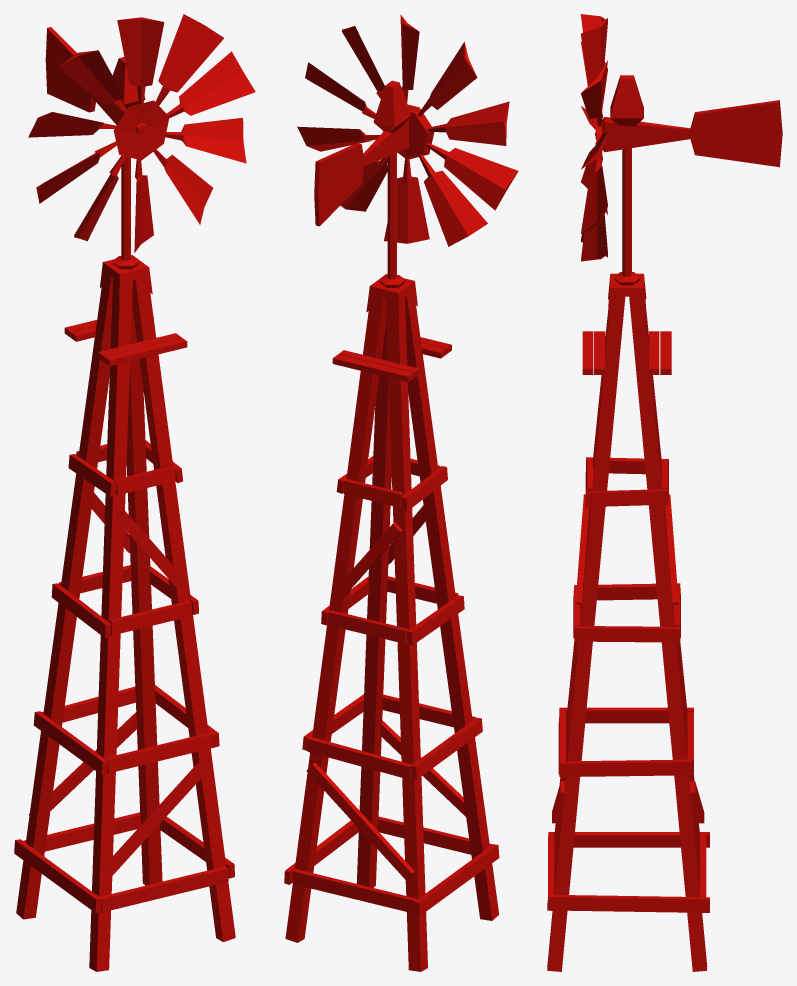
Rendered from windmill-western.fbx.
3 renders of one model, left to right at view 1: azimuth 30°, elevation 25°; view 2: azimuth 150°, elevation 25°; view 3: azimuth 270°, elevation 25°, orthographic. The views are drawn at different scales.
Visible parts, largest first — view 1: windmill-western, windmill-propeller, windmill-tail; view 2: windmill-western, windmill-propeller, windmill-tail; view 3: windmill-western, windmill-tail, windmill-propeller.
Part boxes in pixels (<box>): windmill-western: <box>14,255,235,971</box>; windmill-propeller: <box>28,14,255,252</box>; windmill-tail: <box>45,27,145,269</box>; windmill-western: <box>284,274,499,971</box>; windmill-propeller: <box>297,14,518,246</box>; windmill-tail: <box>314,80,411,287</box>; windmill-western: <box>547,273,709,971</box>; windmill-tail: <box>595,75,782,285</box>; windmill-propeller: <box>580,14,607,261</box>.
Size of the model in its own units: 2.57 by 10.49 by 2.45.
